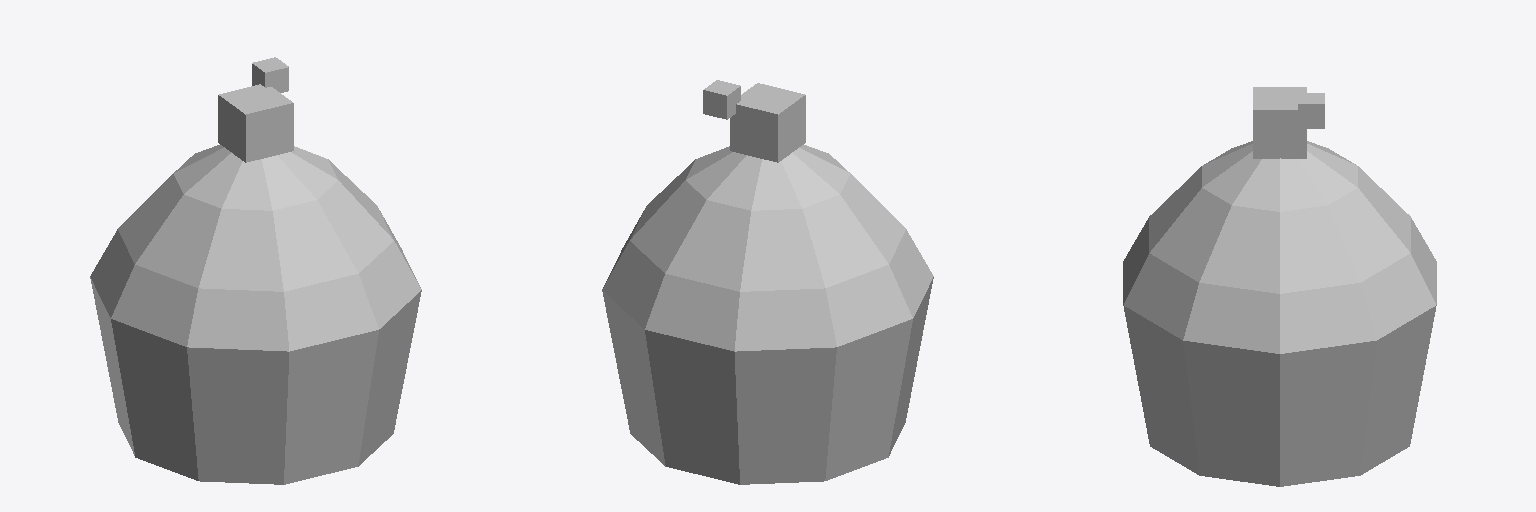
The model's file is cupcake.obj.
The picture shows the model from 3 angles: view 1: azimuth 30°, elevation 25°; view 2: azimuth 150°, elevation 25°; view 3: azimuth 270°, elevation 25°; orthographic projection.
Parts seen in each view (by area): view 1: g1_group; view 2: g1_group; view 3: g1_group.
Boxes of the visible parts, <box> form: g1_group: <box>90,57,421,484</box>; g1_group: <box>602,80,933,484</box>; g1_group: <box>1123,87,1436,486</box>.
Bounding box in the file's own units: 0.9051 × 1.03 × 0.8462.